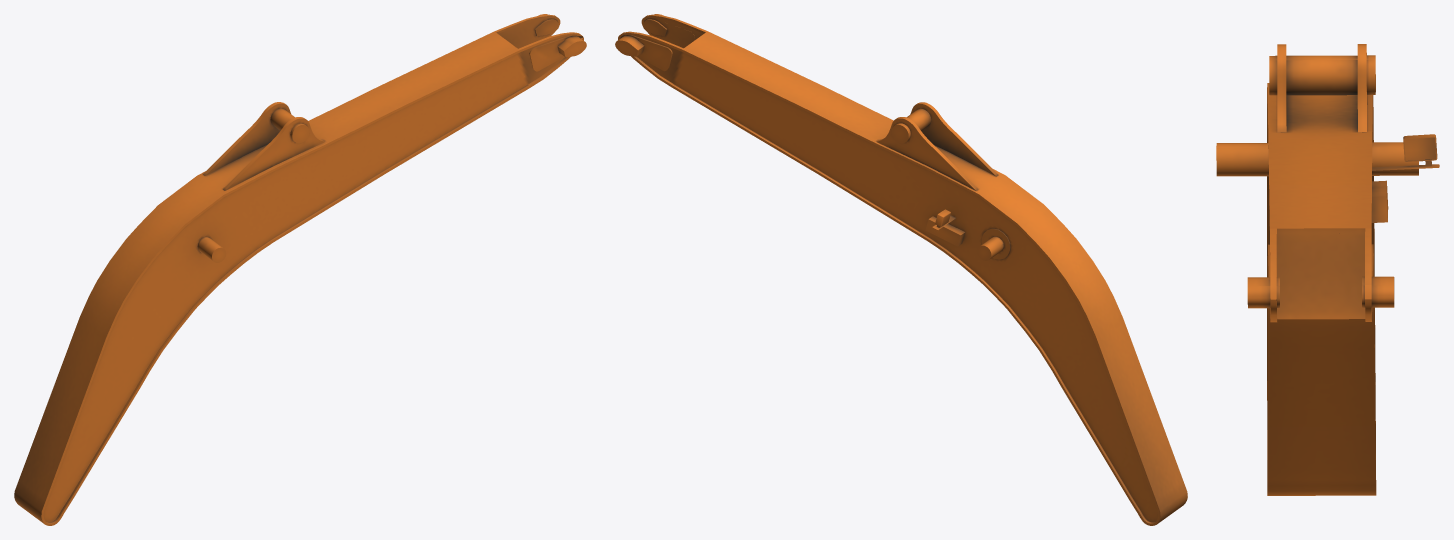
Rendered from zx200-boom.dae.
3 views of the same model, side by side, from view 1: azimuth 30°, elevation 25°; view 2: azimuth 150°, elevation 25°; view 3: azimuth 270°, elevation 25° (orthographic). The views are drawn at different scales.
Parts seen in each view (by area): view 1: boom.004; view 2: boom.004; view 3: boom.004.
Boxes of the visible parts, bbox=[...] form: boom.004: bbox=[14, 14, 586, 525]; boom.004: bbox=[615, 14, 1187, 525]; boom.004: bbox=[1216, 44, 1439, 495].
Size of the model in its own units: 5 by 0.8877 by 3.21.
Materials: 1 (1 with a texture image).
